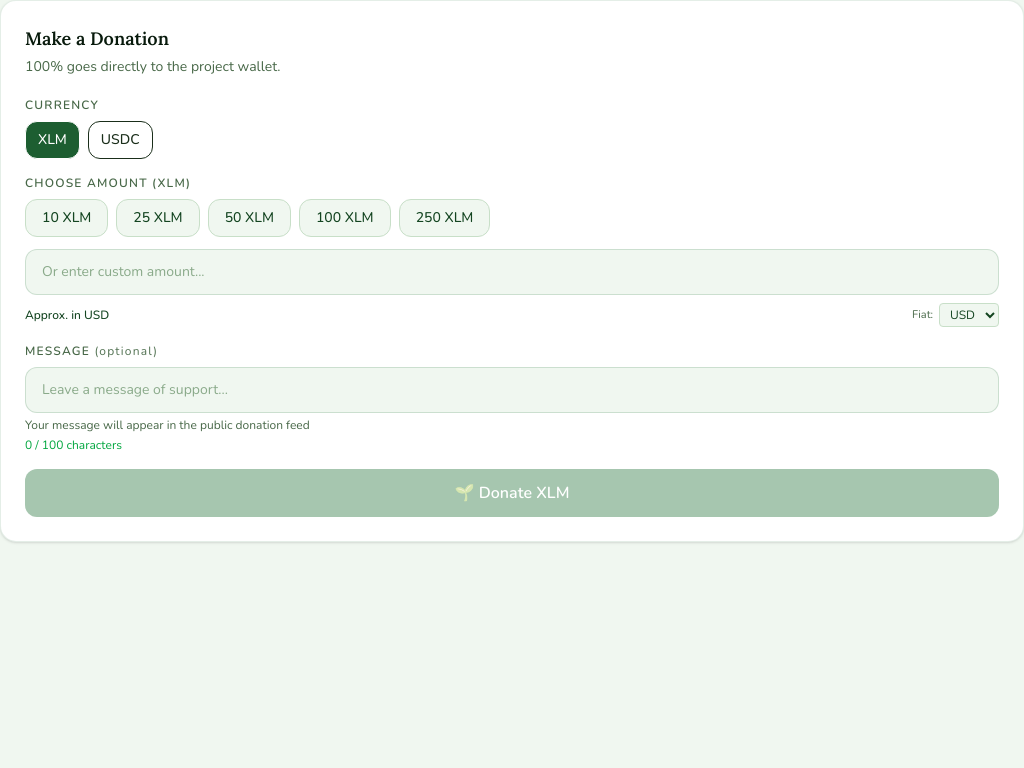
Test: DonateForm Loading & Signing State › shows initial idle state with Donate button enabled after amount entered
The image size is (1024, 768).
Expected: the button "🌱 Donate XLM" is disabled, [25,469,999,517]
# Select preset amount
Click the button "25 XLM" at (158, 218), box [116,199,200,237]
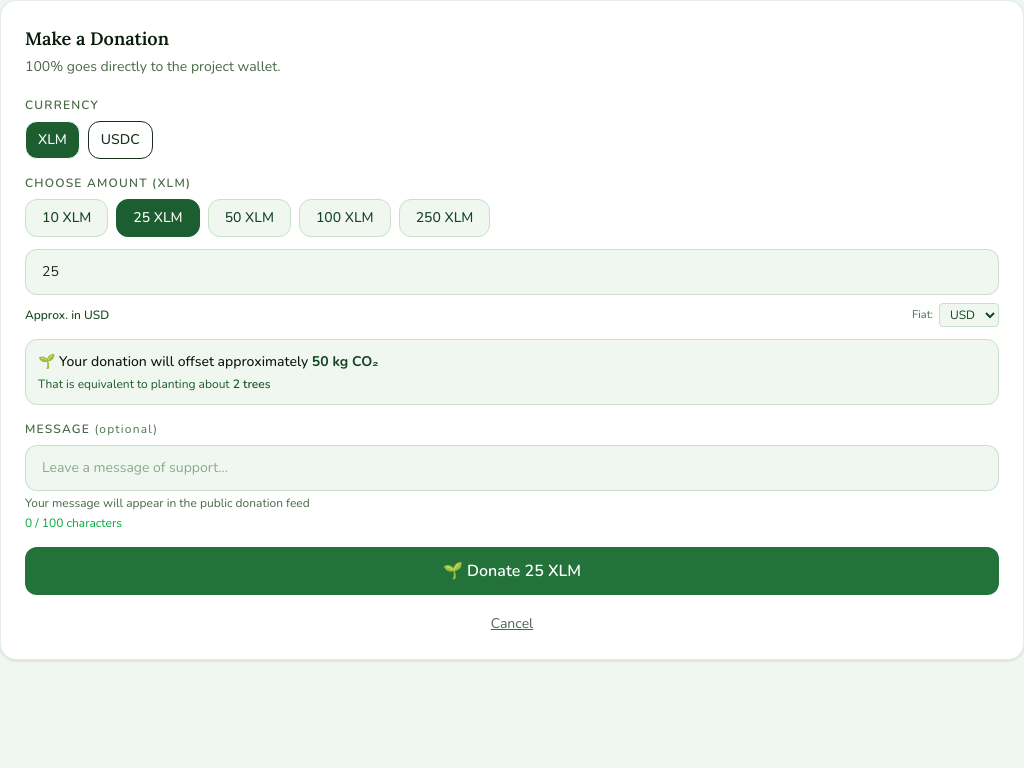
Now the button "🌱 Donate 25 XLM" is enabled, box [25,547,999,595]
Now the button "🌱 Donate 25 XLM" is shown, box [25,547,999,595]
